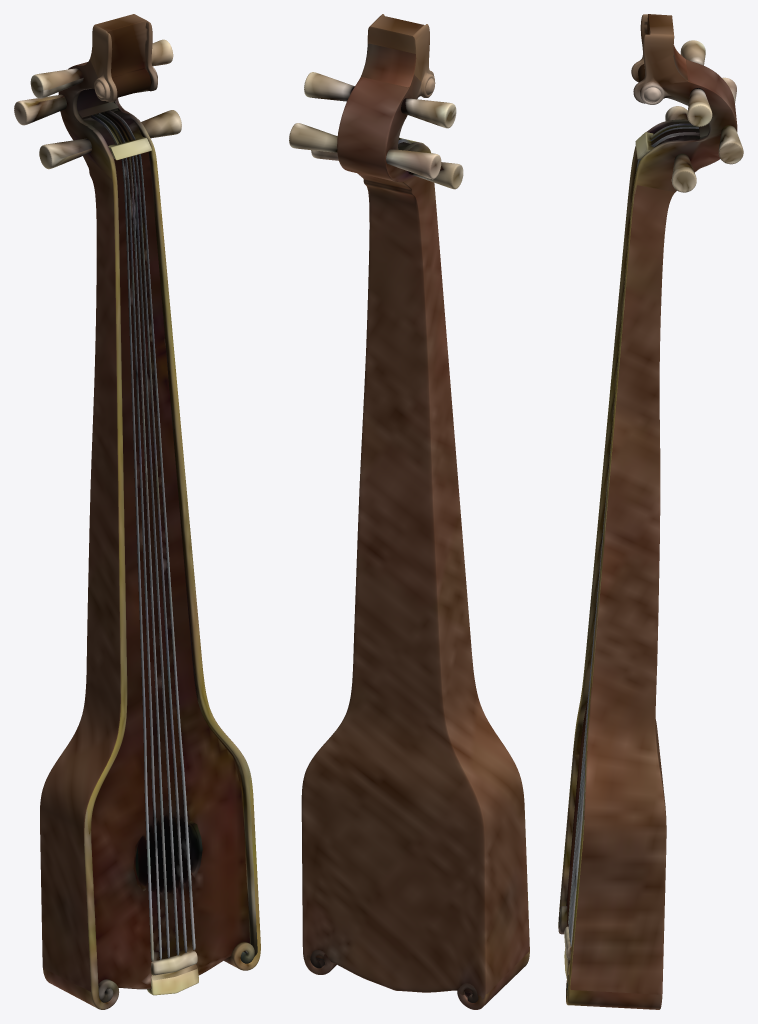
File: MZ4250 - Fancy Lute.glb
3 views of the same model, side by side, from view 1: azimuth 30°, elevation 25°; view 2: azimuth 150°, elevation 25°; view 3: azimuth 270°, elevation 25° (orthographic). The views are drawn at different scales.
Visible parts, largest first — view 1: Fancy Lute.001; view 2: Fancy Lute.001; view 3: Fancy Lute.001.
Boxes of the visible parts, bbox=[...] form: Fancy Lute.001: bbox=[14, 14, 260, 1009]; Fancy Lute.001: bbox=[289, 14, 529, 1009]; Fancy Lute.001: bbox=[558, 14, 743, 1009].
Bounding box in the file's own units: 13.32 × 67.29 × 11.91.
Materials: 1 (1 with a texture image).
